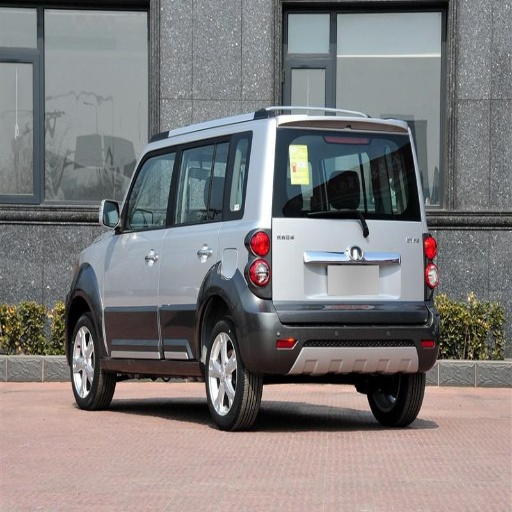back_bumper: (242, 292, 432, 373)
back_glass: (276, 131, 411, 217)
back_left_door: (161, 138, 232, 358)
tailgate: (321, 242, 409, 315)
trunk: (273, 220, 424, 320)
